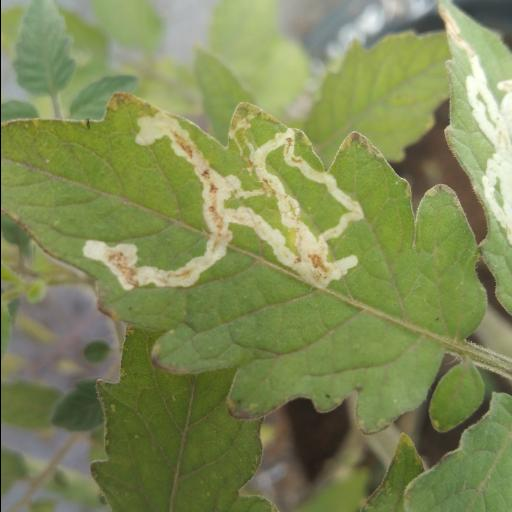Leaf Miner: (0, 91, 489, 432)
